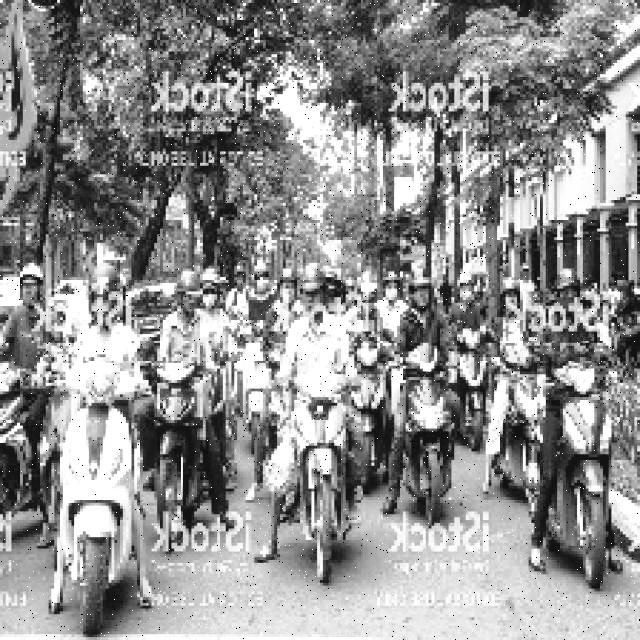Bike: (56, 381, 132, 639), (551, 322, 611, 584), (392, 315, 457, 515), (157, 330, 219, 537), (306, 381, 350, 585), (498, 344, 554, 504), (460, 290, 489, 450)
